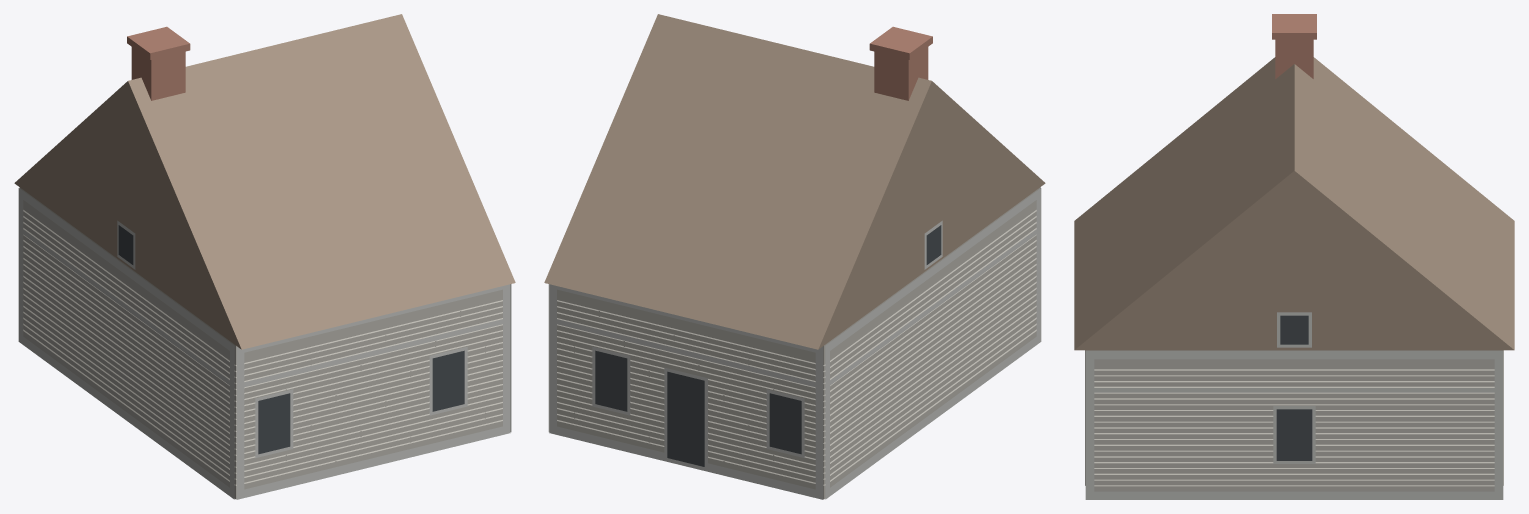
File: recon_1835_north_d6_044__inferred_1835.glb
3 views of the same model, side by side, from view 1: azimuth 30°, elevation 25°; view 2: azimuth 150°, elevation 25°; view 3: azimuth 270°, elevation 25° (orthographic). The views are drawn at different scales.
Parts seen in each view (by area): view 1: recon_1835_north_d6_044__inferred_1835; view 2: recon_1835_north_d6_044__inferred_1835; view 3: recon_1835_north_d6_044__inferred_1835.
Part boxes in pixels (left/top/right/bottom): recon_1835_north_d6_044__inferred_1835: left=14, top=14, right=515, bottom=499; recon_1835_north_d6_044__inferred_1835: left=544, top=14, right=1045, bottom=499; recon_1835_north_d6_044__inferred_1835: left=1074, top=14, right=1514, bottom=499.
Size of the model in its own units: 6.8 by 8.72 by 9.64.
